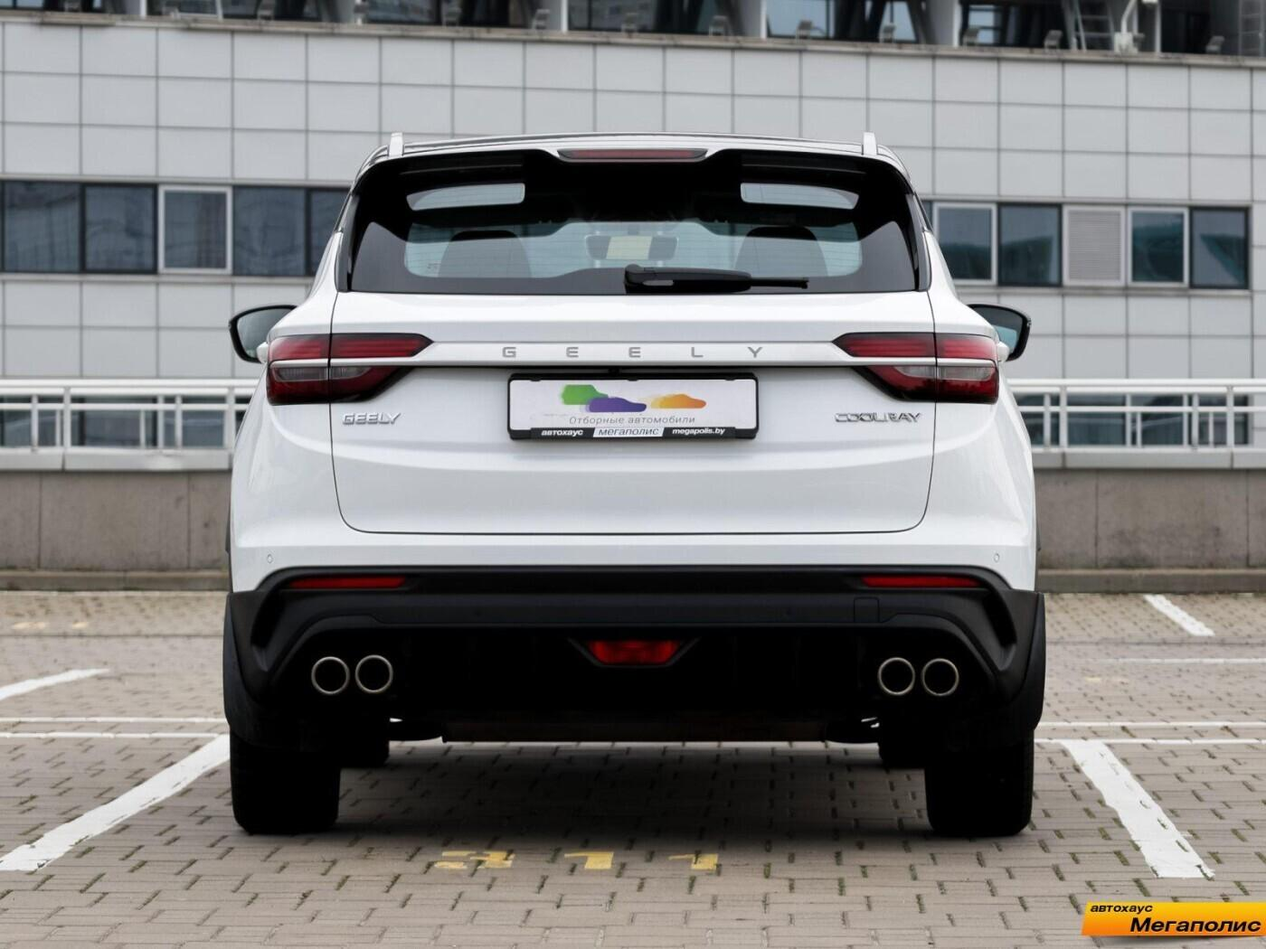Coolray_2019-2023: (214, 133, 1070, 853)
